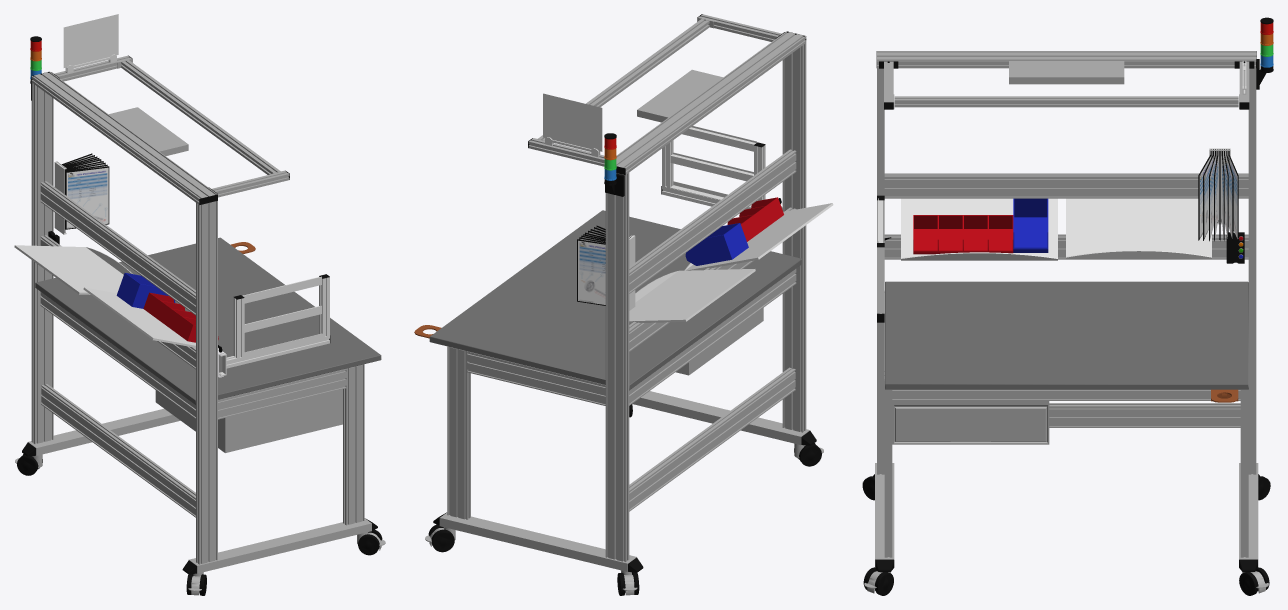
Rendered from Poste_manuel_1500.fbx.
3 renders of one model, left to right at view 1: azimuth 30°, elevation 25°; view 2: azimuth 150°, elevation 25°; view 3: azimuth 270°, elevation 25°, orthographic. The views are drawn at different scales.
Visible parts, largest first — view 1: PosteManuel1500mm.002, Cube.002, PosteManuel1500mm.001, Petite plaque.002, Fiche_poste.002, Document_fiche1.002, Grande plaque.002, PosteManuel_light.002, Grand Bacs.002, BacExtraLarge.002, Porte_documents.002, Andon.002; view 2: PosteManuel1500mm.002, PosteManuel1500mm.001, Petite plaque.002, Cube.002, Fiche_poste.002, Grande plaque.002, PosteManuel_light.002, Document_fiche9.005, BacExtraLarge.002, Grand Bacs.002, Andon.002; view 3: PosteManuel1500mm.002, Petite plaque.002, PosteManuel1500mm.001, PosteManuel_tiroir.002, Grande plaque.002, Grand Bacs.002, PosteManuel_light.002, BacExtraLarge.002, Cube.002, Andon.002, Andon_telecommande.002.
Boxes of the visible parts, box(x1,y1,x2,y2) form: PosteManuel1500mm.002: box(15, 55, 385, 595); Cube.002: box(219, 274, 330, 376); PosteManuel1500mm.001: box(40, 181, 195, 315); Petite plaque.002: box(14, 245, 132, 294); Fiche_poste.002: box(63, 14, 118, 73); Document_fiche1.002: box(65, 166, 109, 229); Grande plaque.002: box(83, 287, 218, 350); PosteManuel_light.002: box(109, 107, 188, 155); Grand Bacs.002: box(143, 292, 218, 342); BacExtraLarge.002: box(116, 273, 175, 308); Porte_documents.002: box(54, 161, 66, 234); Andon.002: box(30, 36, 41, 100); PosteManuel1500mm.002: box(425, 14, 823, 595); PosteManuel1500mm.001: box(629, 149, 796, 293); Petite plaque.002: box(629, 269, 755, 323); Cube.002: box(661, 126, 765, 209); Fiche_poste.002: box(543, 93, 602, 157); Grande plaque.002: box(684, 203, 833, 270); PosteManuel_light.002: box(637, 69, 722, 122); Document_fiche9.005: box(577, 239, 605, 305); BacExtraLarge.002: box(685, 223, 748, 265); Grand Bacs.002: box(727, 197, 783, 241); Andon.002: box(604, 133, 624, 196); PosteManuel1500mm.002: box(862, 51, 1270, 595); Petite plaque.002: box(1066, 198, 1211, 259); PosteManuel1500mm.001: box(884, 173, 1248, 198); PosteManuel_tiroir.002: box(895, 406, 1046, 441); Grande plaque.002: box(901, 198, 1057, 260); Grand Bacs.002: box(913, 215, 1013, 254); PosteManuel_light.002: box(1009, 61, 1124, 84); BacExtraLarge.002: box(1013, 198, 1048, 252); Cube.002: box(877, 195, 884, 322); Andon.002: box(1256, 17, 1273, 89); Andon_telecommande.002: box(1226, 232, 1244, 263).
Bounding box in the file's own units: 1.31 × 2.27 × 1.7.
20 materials, 1 textured.
